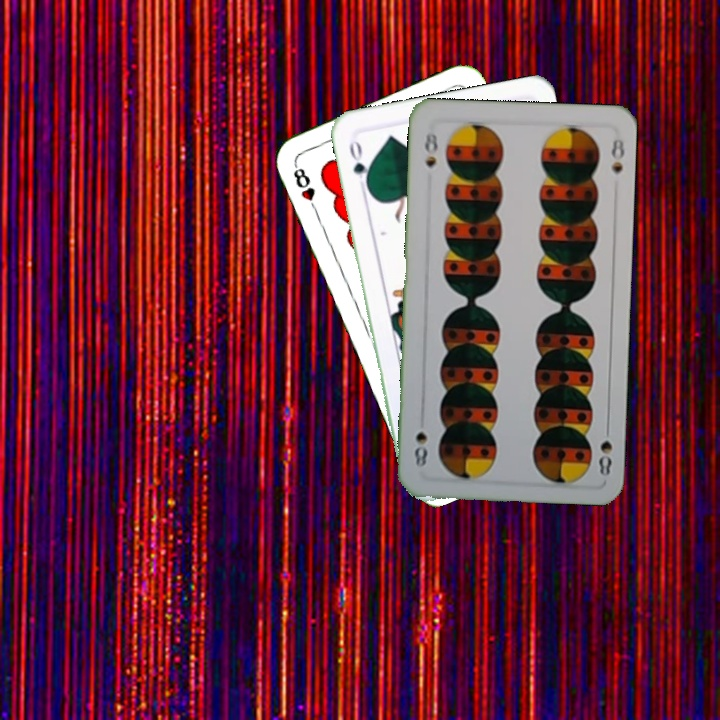GO: (345, 136, 372, 192)
H8: (289, 160, 321, 216)
S8: (595, 420, 615, 479), (421, 128, 441, 171)
